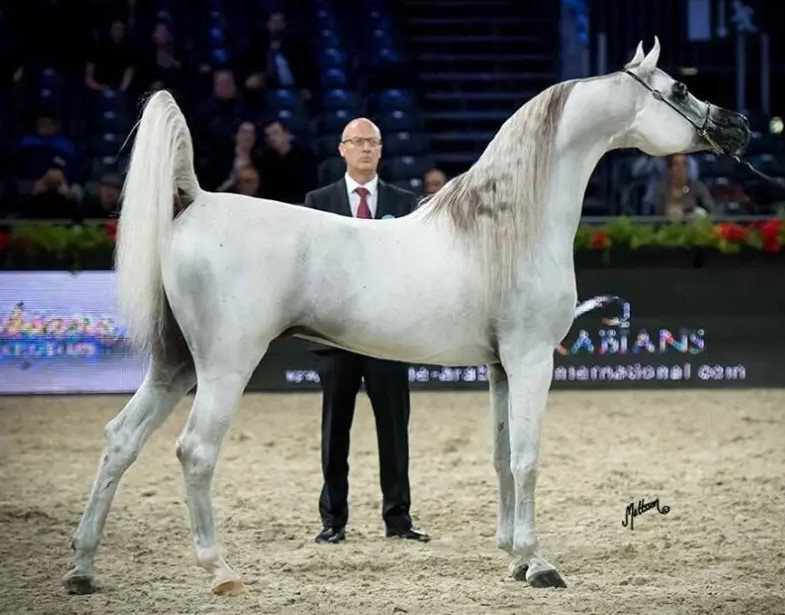horse: (60, 33, 751, 596)
